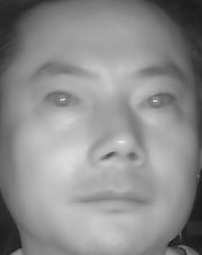eye: (40, 87, 85, 110), (138, 89, 177, 110)
mouth: (75, 181, 156, 219)
